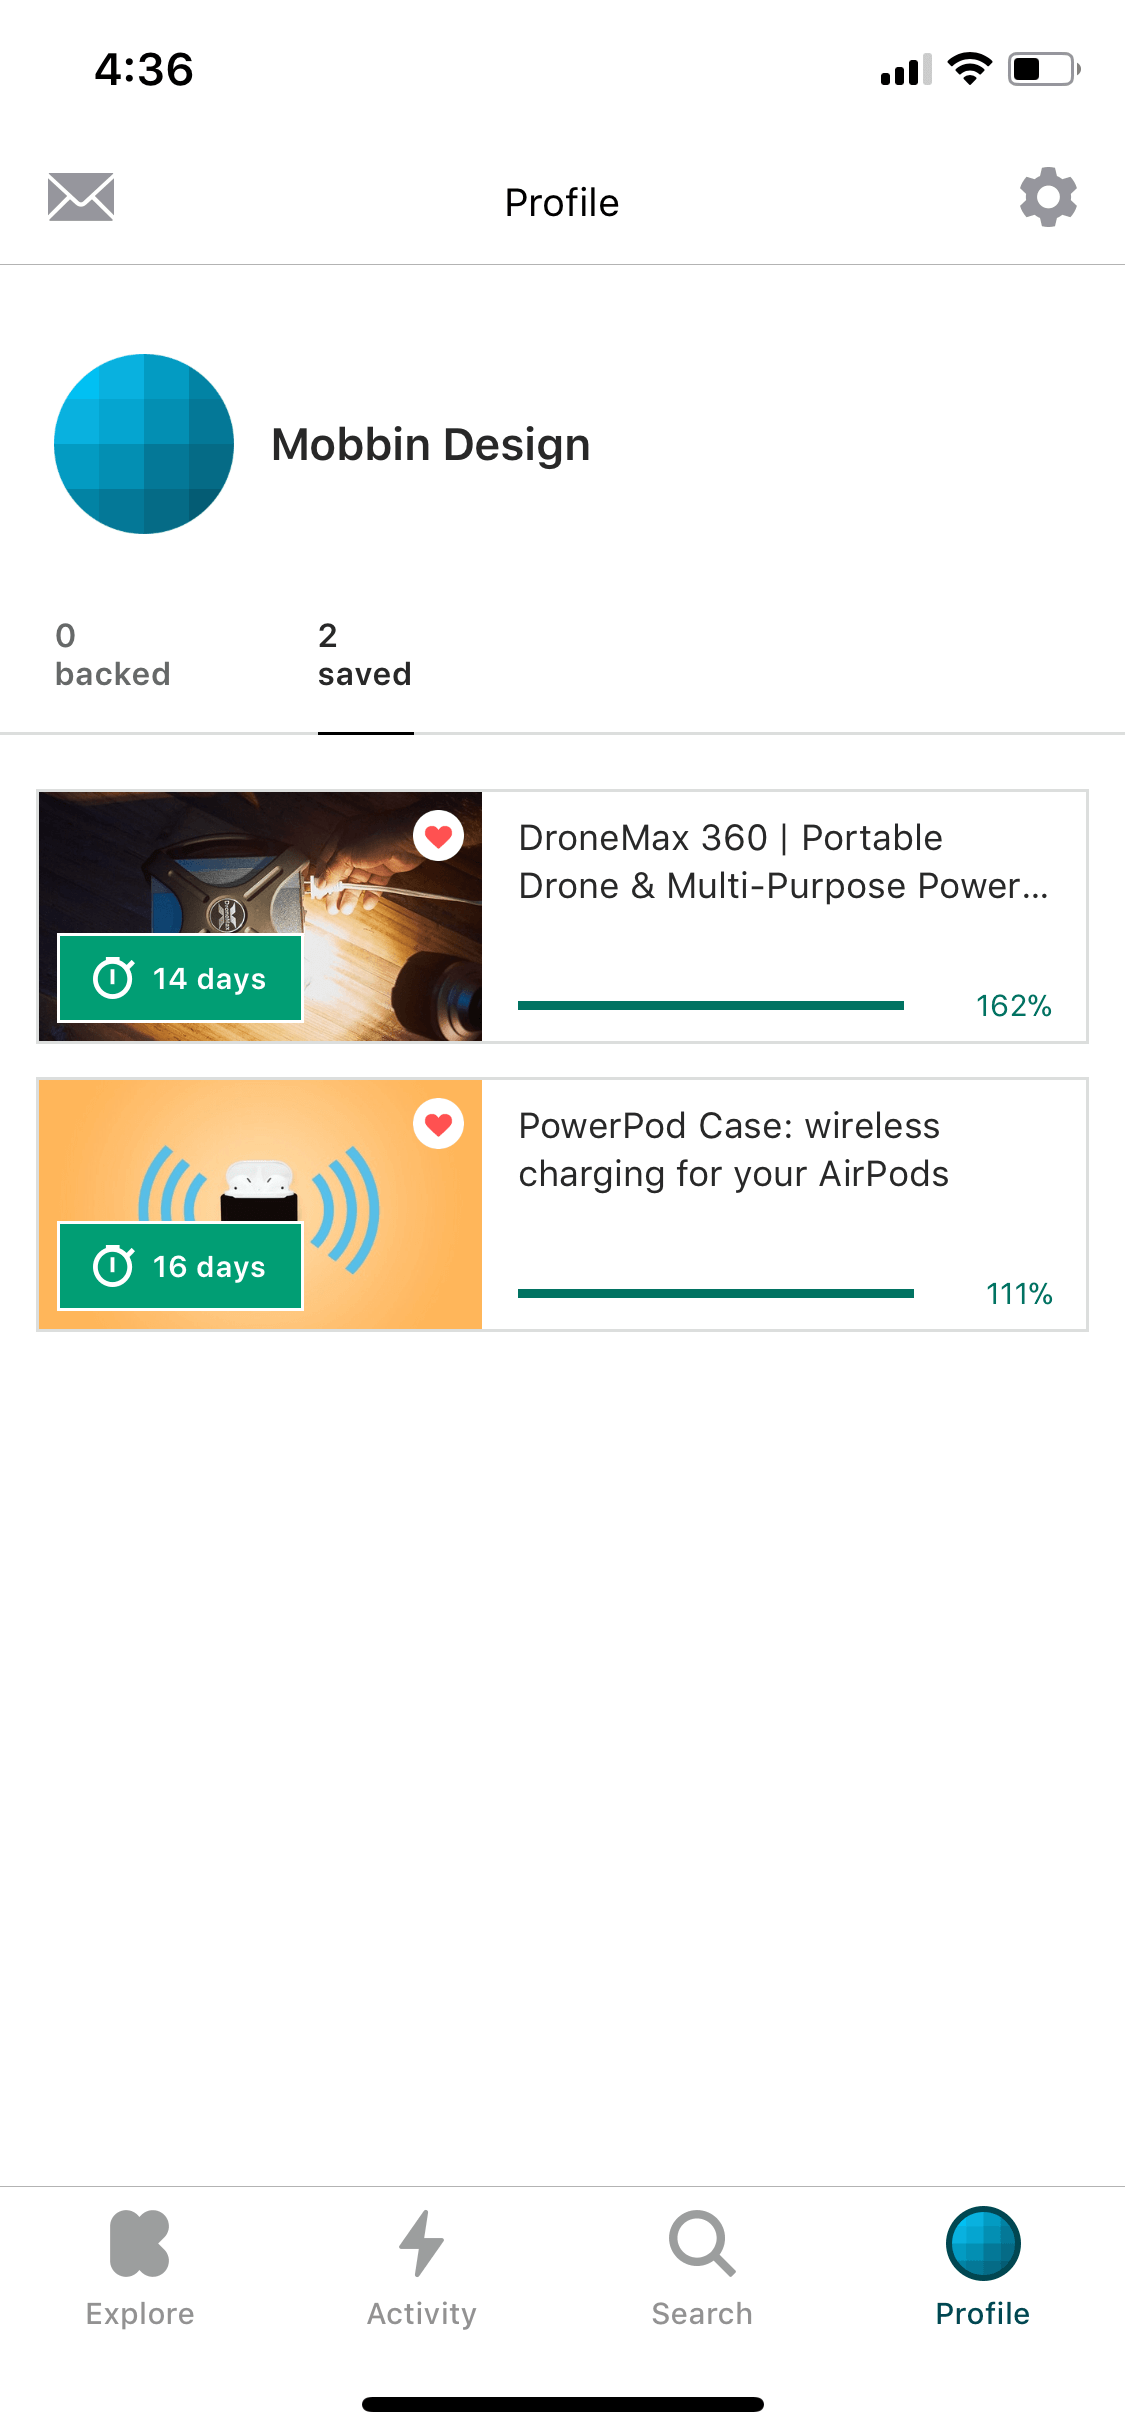Buttons: (20, 135, 143, 259), (985, 135, 1106, 258)
Progress indicators: (500, 957, 1069, 1035), (499, 1244, 1071, 1321)
